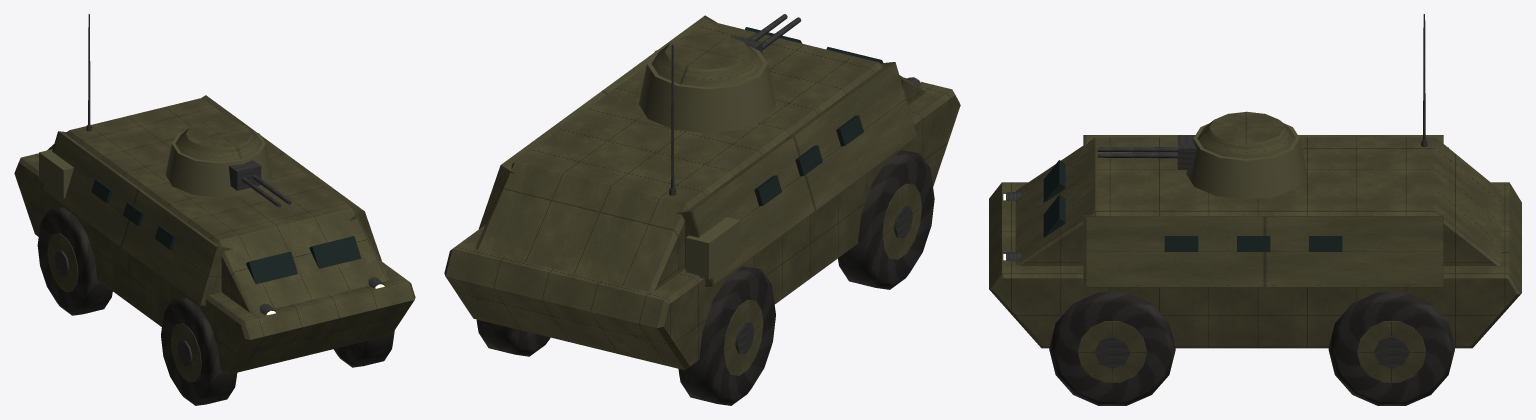
The model's file is v100_commando_lod1.glb.
The picture shows the model from 3 angles, left to right: view 1: azimuth 30°, elevation 25°; view 2: azimuth 150°, elevation 25°; view 3: azimuth 270°, elevation 25°; orthographic projection. The views are drawn at different scales.
Parts seen in each view (by area): view 1: V100_Commando; view 2: V100_Commando; view 3: V100_Commando.
Part boxes in pixels (x1,y1,x2,y2): V100_Commando: [14, 14, 415, 405]; V100_Commando: [444, 14, 960, 405]; V100_Commando: [989, 14, 1521, 405].
Bounding box in the file's own units: 2.49 × 3.51 × 5.4.
6 materials, 3 textured.
